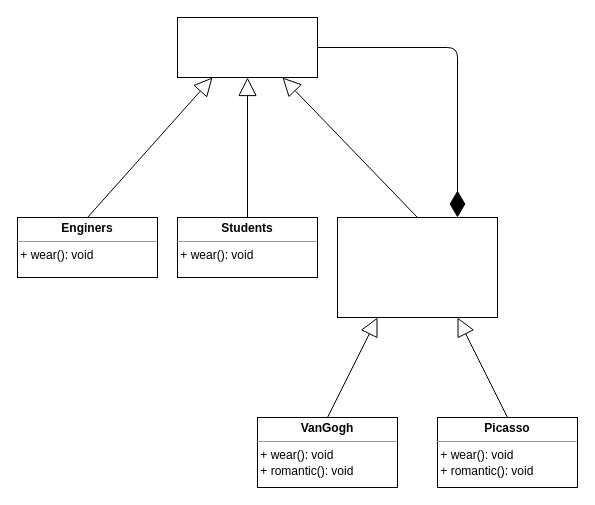
The diagram is 595 pixels wide and 505 high, and some of its shapes have lost their labels. Here are the shapes that lost their labels. From the top down, the centre of each, then its label:
point 247,47: Person + wear(): void
point 417,267: ArtPerson + person: Person + wear(): void + romantic(): void
